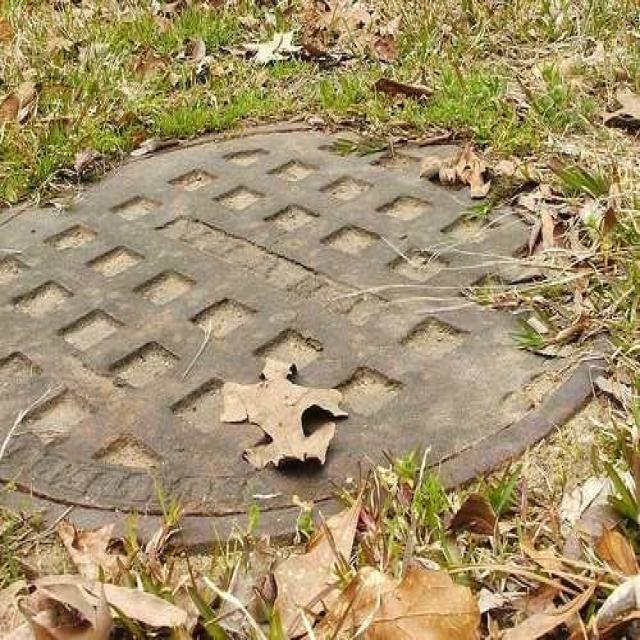manhole: (0, 131, 613, 560)
